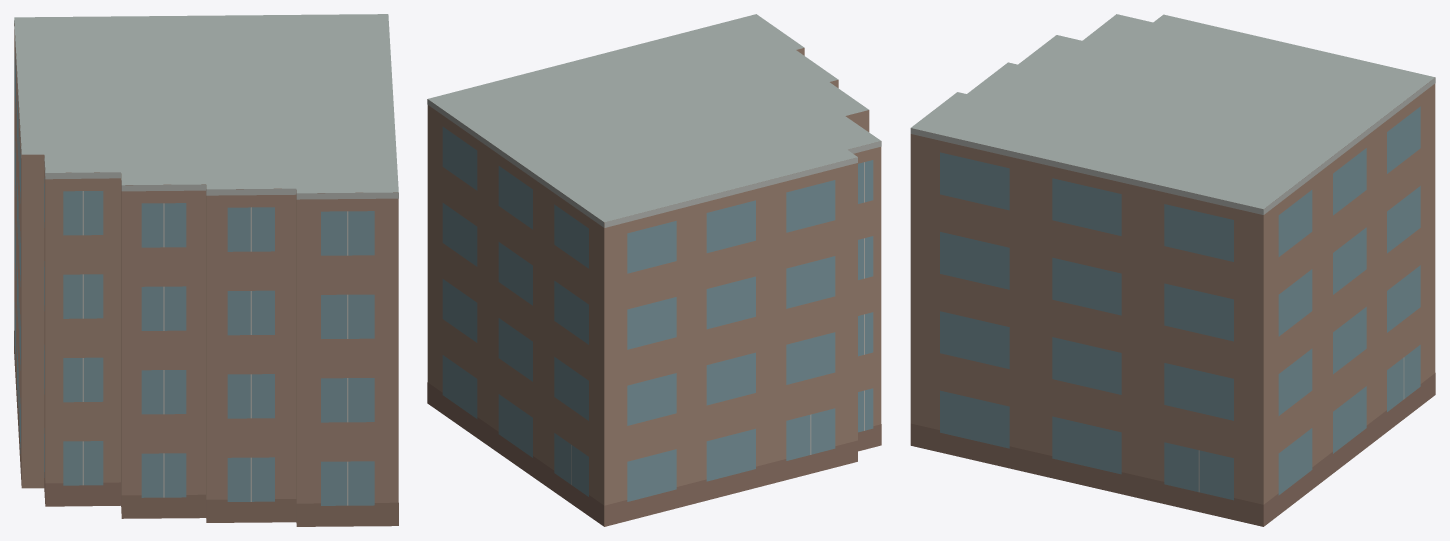
File: survey-upis-32720264.glb
The picture shows the model from 3 angles, left to right: view 1: azimuth 30°, elevation 25°; view 2: azimuth 150°, elevation 25°; view 3: azimuth 270°, elevation 25°; orthographic projection. The views are drawn at different scales.
Parts seen in each view (by area): view 1: survey-upis-32720264.tmp; view 2: survey-upis-32720264.tmp; view 3: survey-upis-32720264.tmp.
Part boxes in pixels (x1=…): survey-upis-32720264.tmp: x1=14, y1=14, x2=398, y2=526; survey-upis-32720264.tmp: x1=427, y1=14, x2=881, y2=526; survey-upis-32720264.tmp: x1=910, y1=14, x2=1435, y2=526.
Size of the model in its own units: 17.28 by 13.1 by 19.63.
